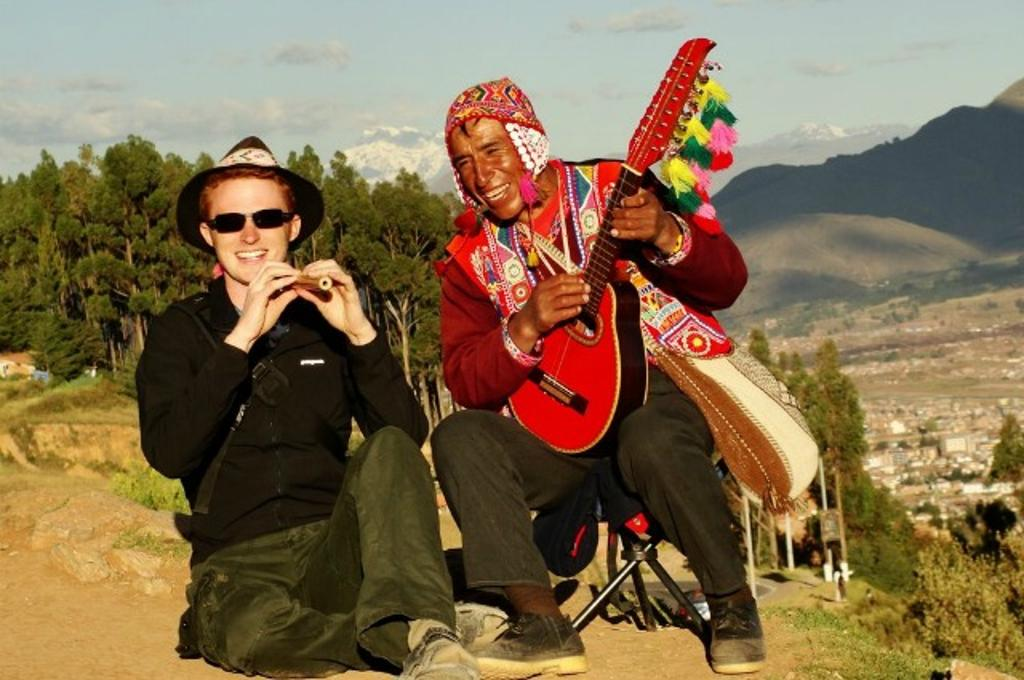face: (212, 170, 296, 284), (456, 112, 528, 230)
